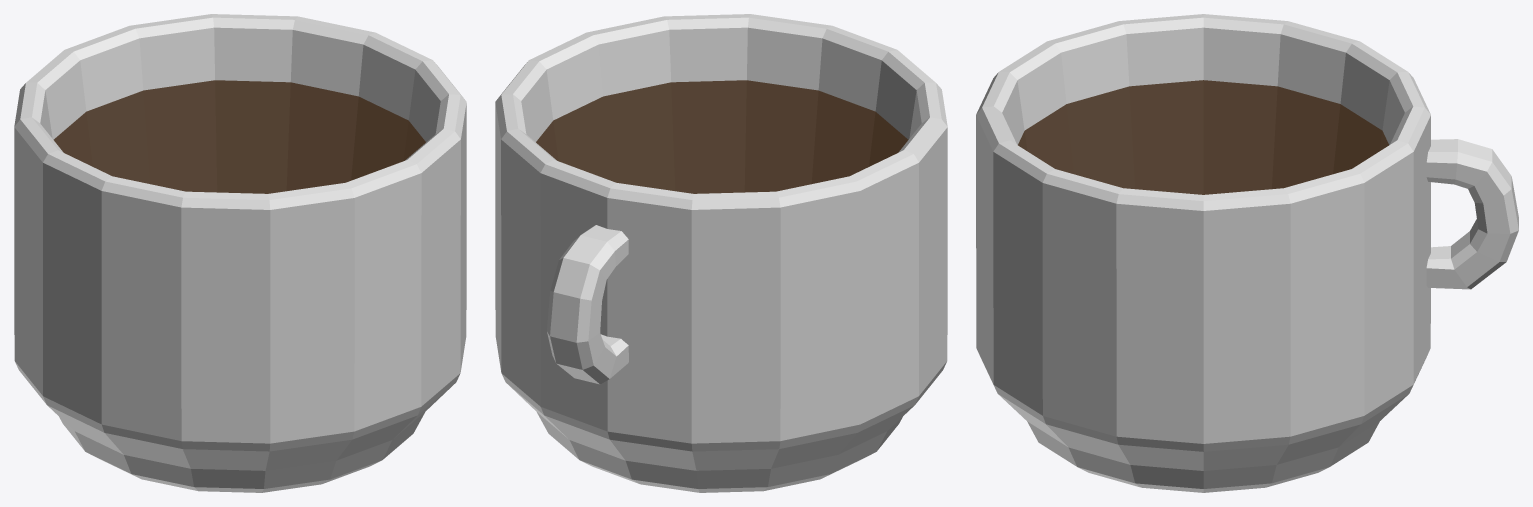
The model's file is CupOfCoffee.fbx.
3 views of the same model, side by side, from view 1: azimuth 30°, elevation 25°; view 2: azimuth 150°, elevation 25°; view 3: azimuth 270°, elevation 25° (orthographic).
Parts seen in each view (by area): view 1: Circle; view 2: Circle; view 3: Circle.
Boxes of the visible parts, left/top/right/bottom form: Circle: left=14, top=14, right=466, bottom=492; Circle: left=495, top=14, right=947, bottom=492; Circle: left=976, top=14, right=1518, bottom=492.
Size of the model in its own units: 9.36 by 7.23 by 11.17.
